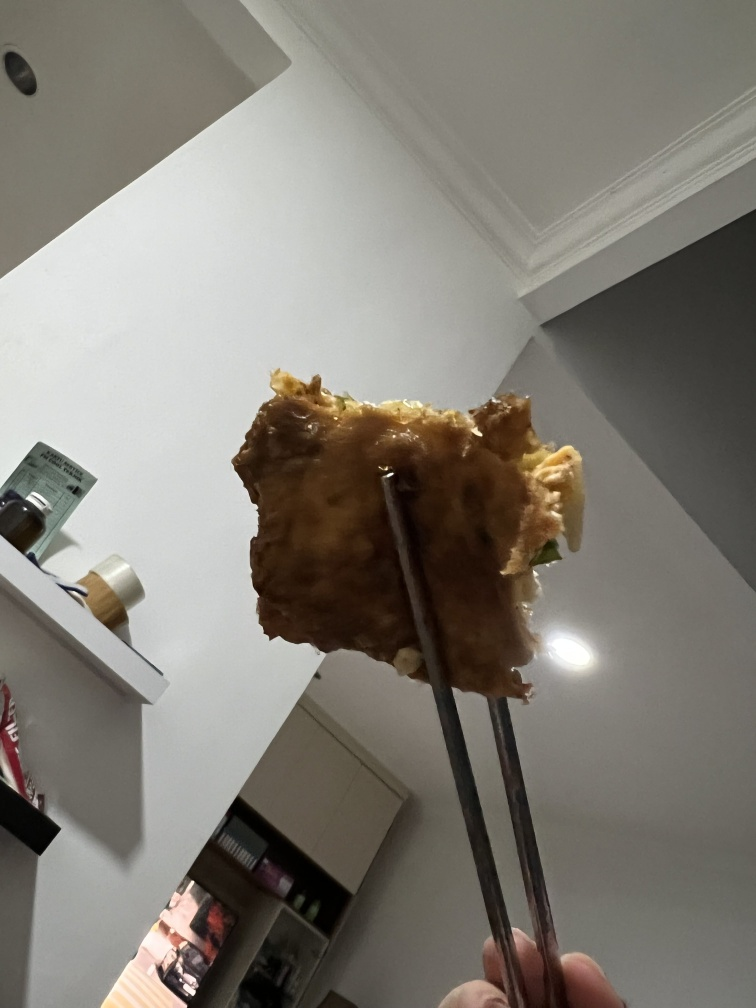martabak telor: (234, 359, 571, 713)
